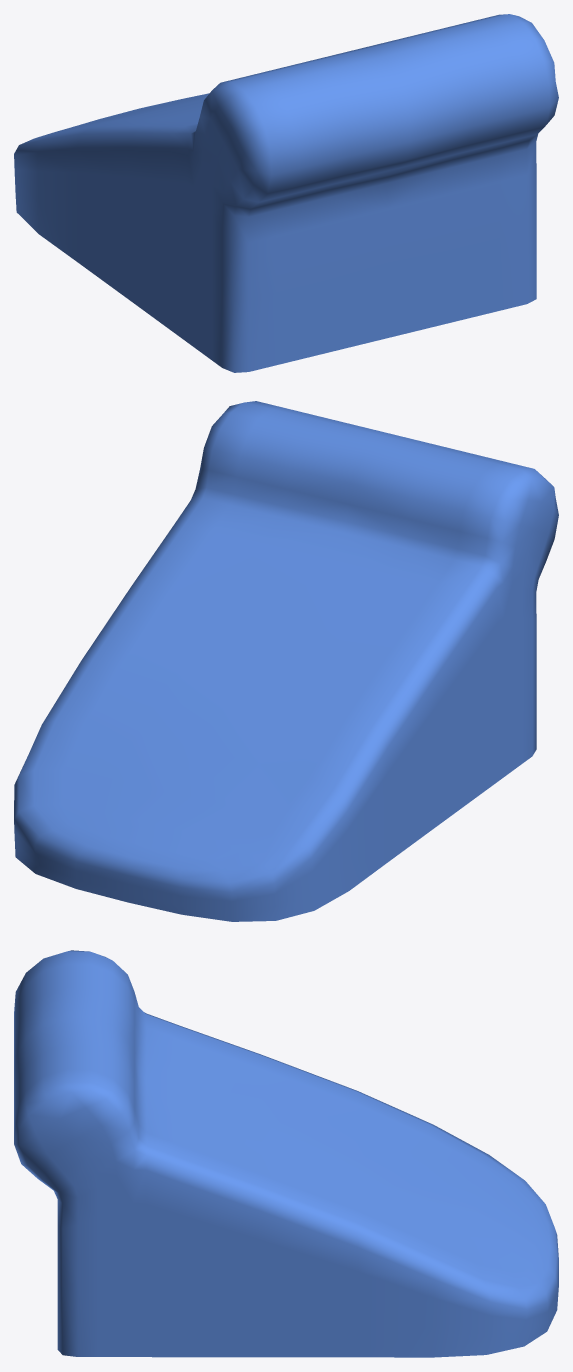
The model's file is original-11.obj.
3 renders of one model, top to bottom at view 1: azimuth 30°, elevation 25°; view 2: azimuth 150°, elevation 25°; view 3: azimuth 270°, elevation 25°, orthographic. The views are drawn at different scales.
Parts seen in each view (by area): view 1: mesh11/mesh11-geometry#mesh11-geometry; view 2: mesh11/mesh11-geometry#mesh11-geometry; view 3: mesh11/mesh11-geometry#mesh11-geometry.
Part boxes in pixels (left/top/right/bottom): mesh11/mesh11-geometry#mesh11-geometry: left=14, top=14, right=558, bottom=372; mesh11/mesh11-geometry#mesh11-geometry: left=14, top=401, right=558, bottom=921; mesh11/mesh11-geometry#mesh11-geometry: left=14, top=950, right=558, bottom=1357.
Size of the model in its own units: 0.0621 by 0.0534 by 0.0982.
